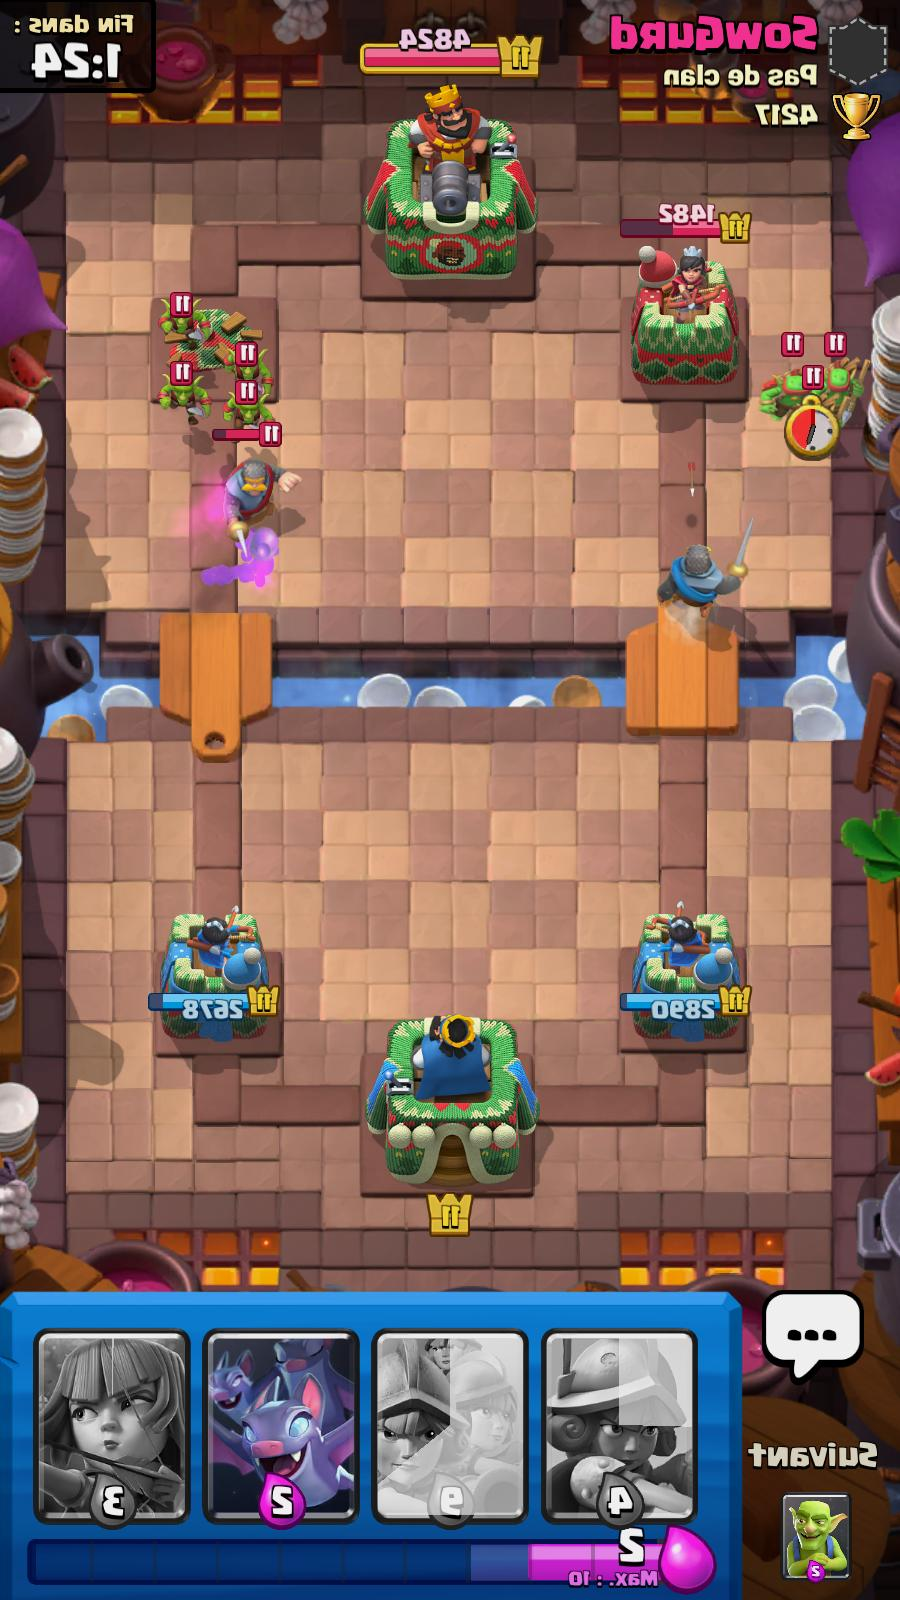chevalier: (211, 420, 286, 554), (654, 522, 753, 615)
gobelin: (155, 359, 199, 423), (153, 290, 207, 342), (218, 345, 270, 391), (221, 384, 266, 432)
gobelin_lances: (766, 331, 813, 426), (814, 331, 859, 426)
